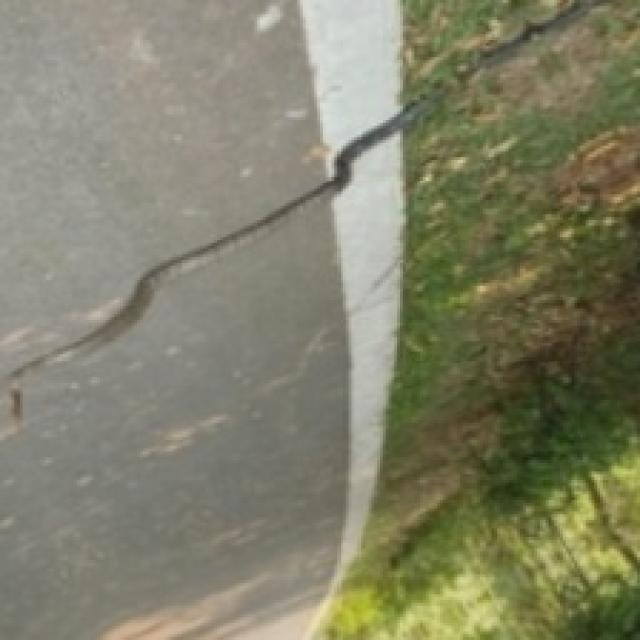king cobra: (14, 84, 455, 379), (455, 0, 598, 84)
